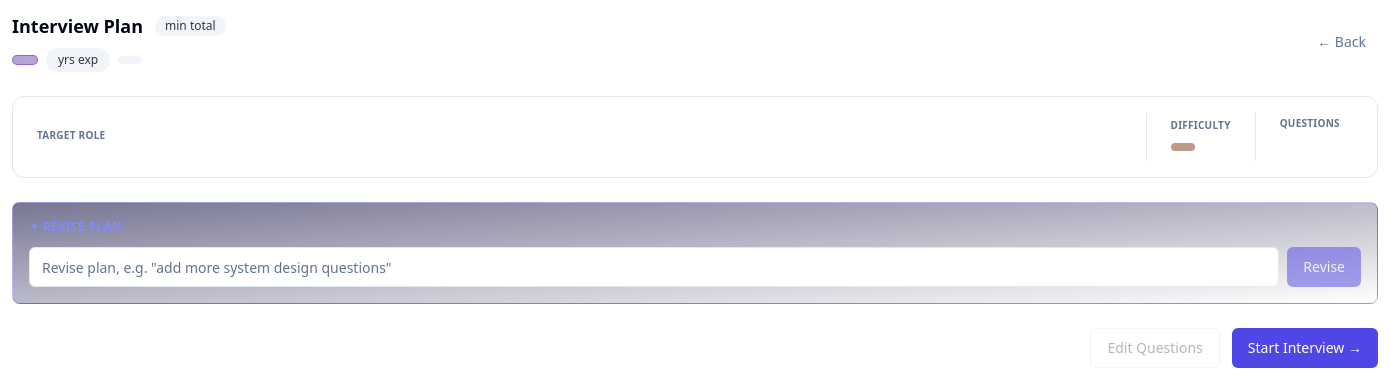
Test case: PlanStep revise bar › shows "Revising..." on the button and disables it while revision is in progress
Type "add more questions" into the field with placeholder "Revise plan, e.g. \"add more system design questions\"" at (654, 267), box [29,247,1279,287]
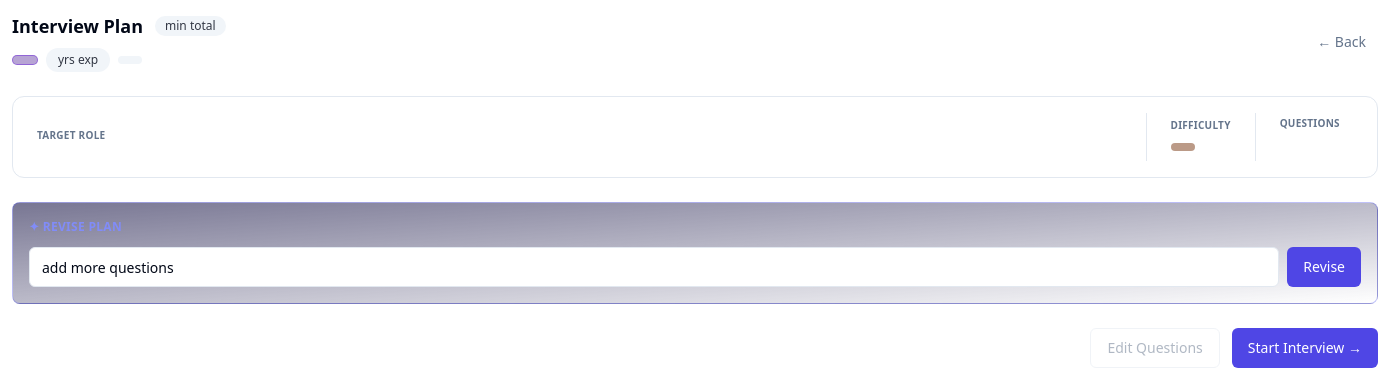
Click the button "Revise" at (1324, 267), box [1287,247,1361,287]
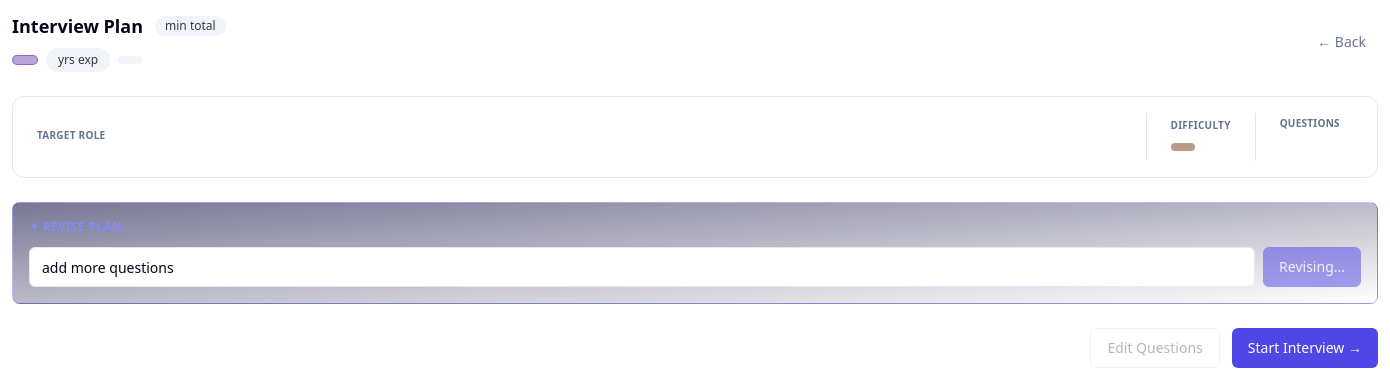
Expected: the button "Revising..." is disabled, [1263,247,1361,287]
